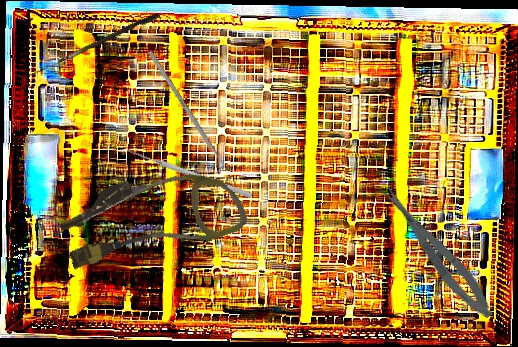Cannula: (51, 144, 251, 291)
Hook Surgical: (28, 9, 161, 83)
Micro Scissor: (374, 175, 500, 326)
Pusher: (147, 50, 235, 181), (125, 146, 254, 200)
